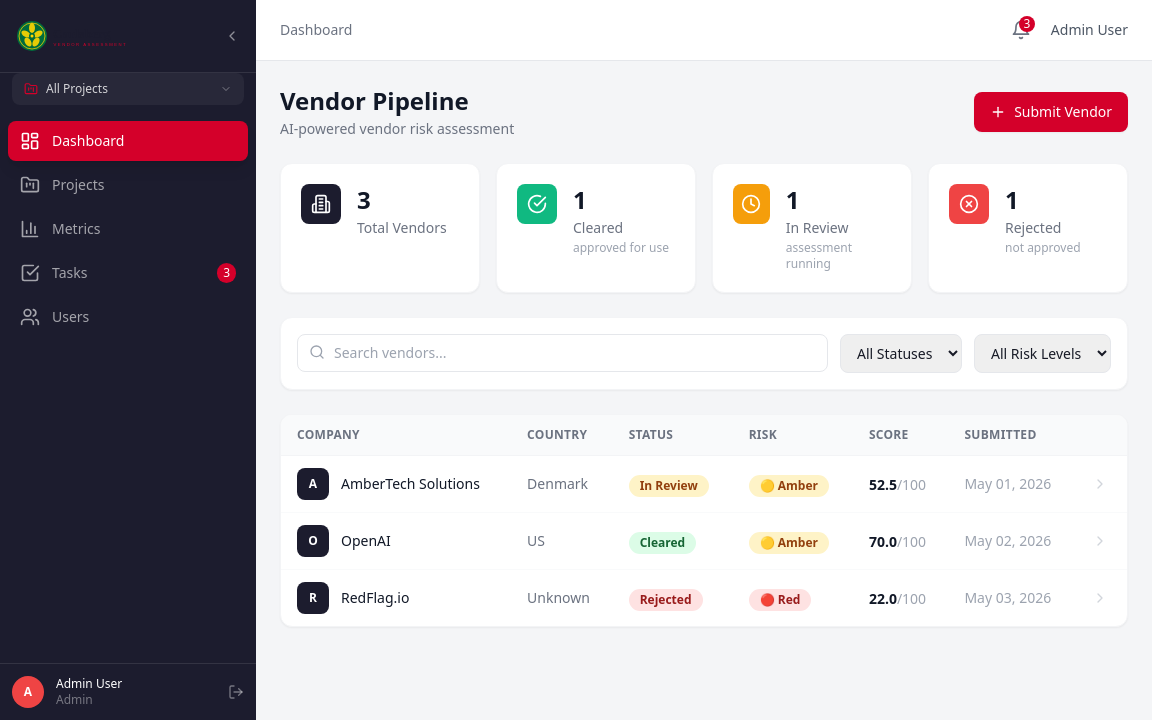
it: DashboardPage › submit vendor modal can be closed
The width and height of the screenshot is (1152, 720).
What coordinates should you click on to do the following:
click the button "Submit Vendor"
I would click on:
 (1051, 112)
Its box is left=974, top=92, right=1128, bottom=132.
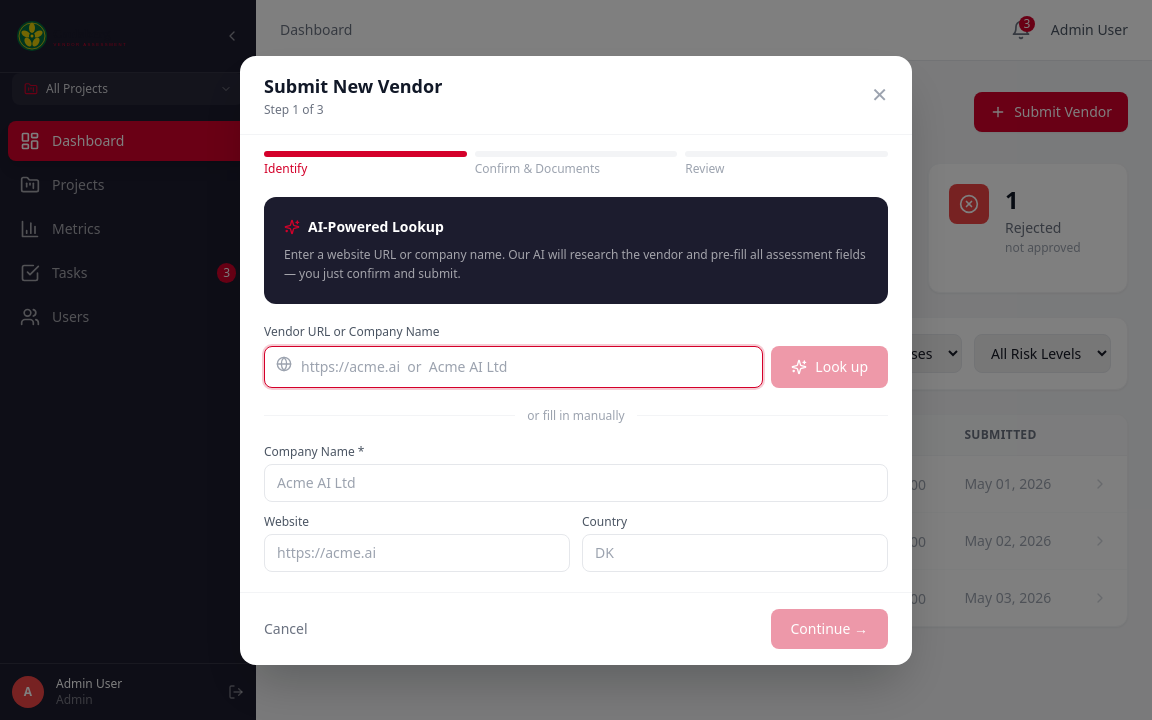
Check: the heading "Submit New Vendor" is shown, box left=264, top=72, right=442, bottom=100
What coordinates should you click on to do the following:
click the button "Cancel"
I would click on:
 (286, 628)
Its box is left=264, top=618, right=308, bottom=638.
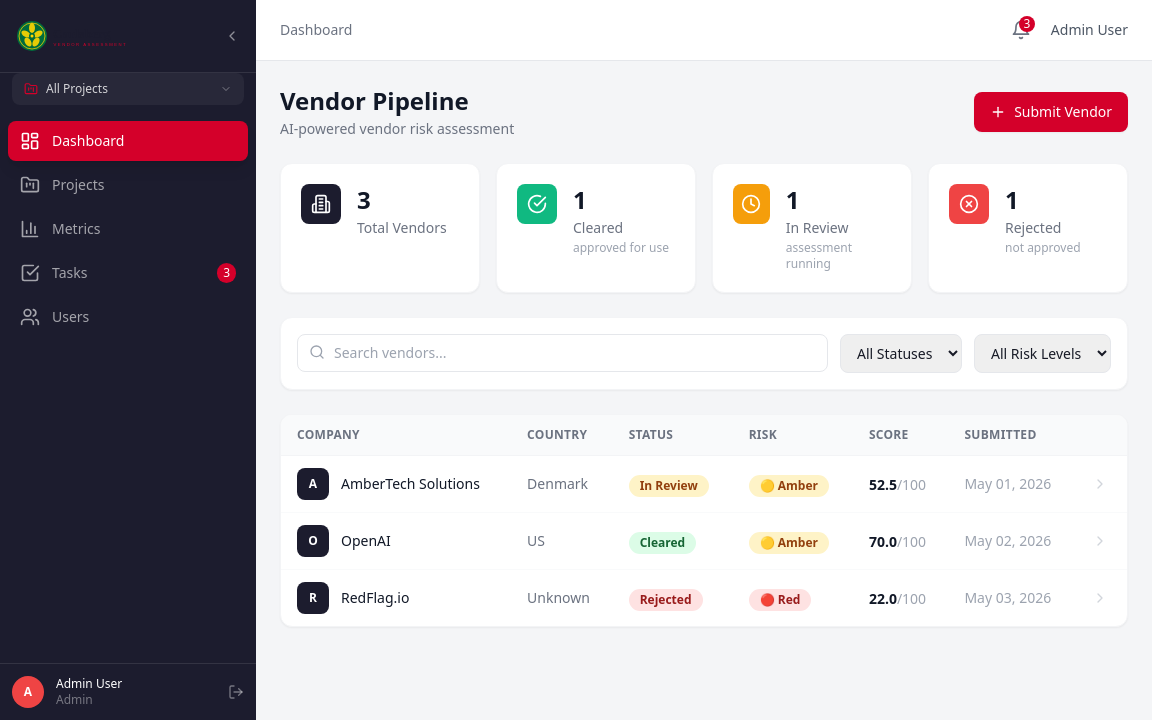
Check: the heading "Submit New Vendor" is gone
